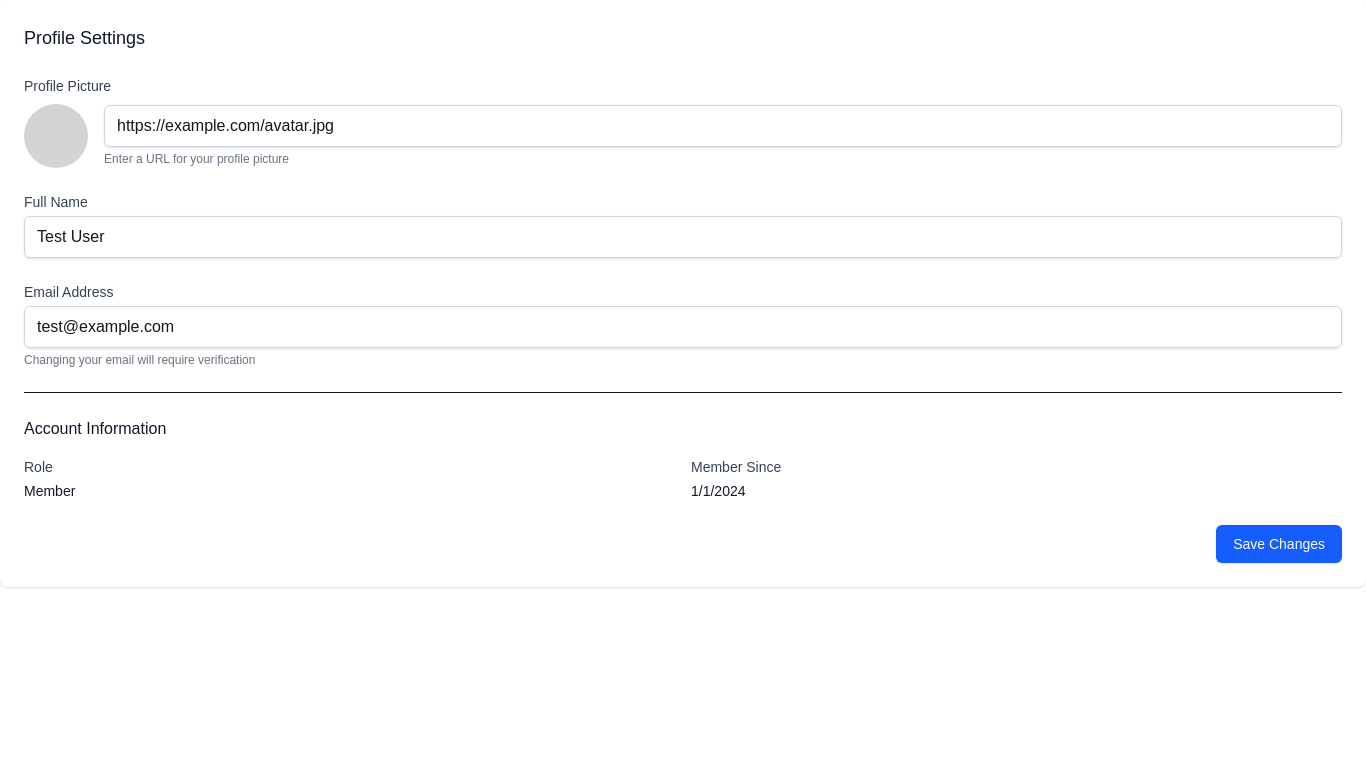
Test: UserProfileSettings › displays success message when update succeeds
Click the button "Save Changes": click(1279, 544) [1216, 525, 1342, 563]
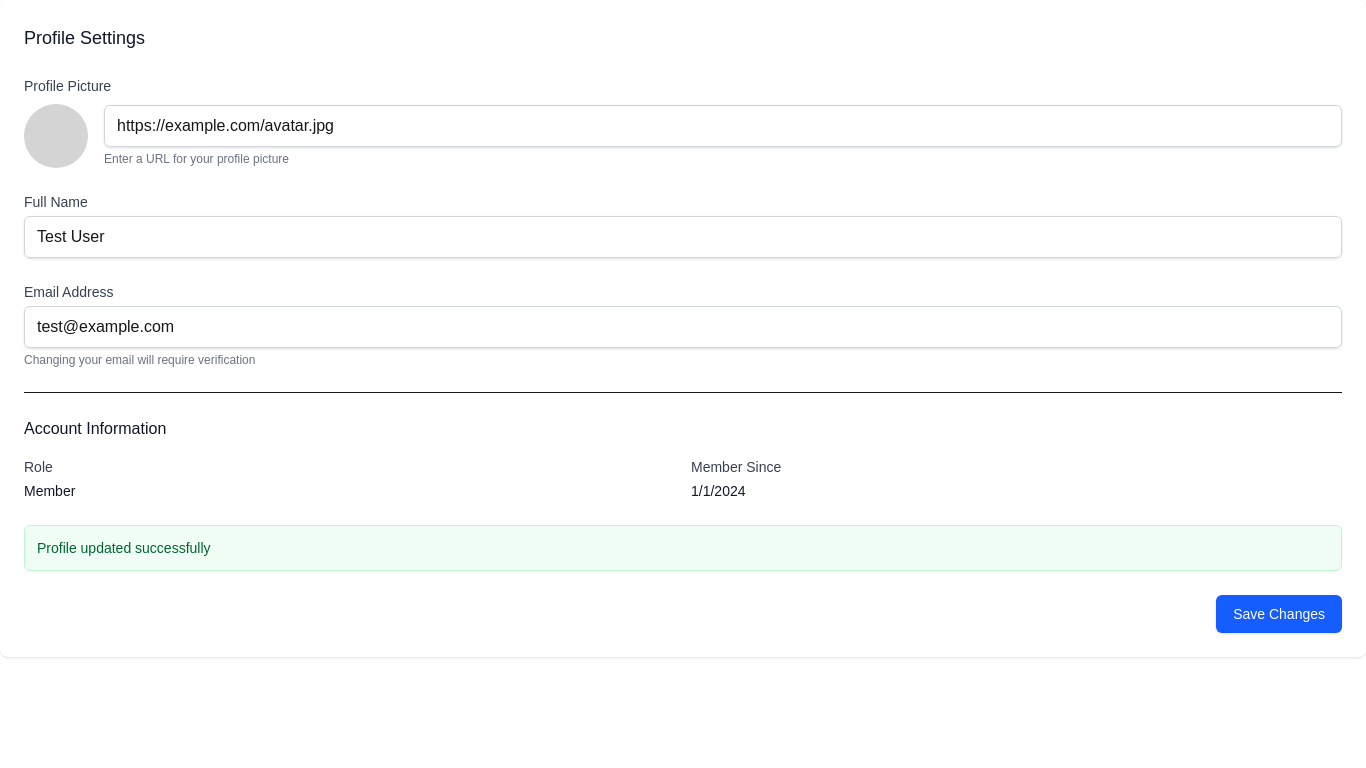
Expected: the text "Profile updated successfully" is shown, [37, 540, 210, 556]
